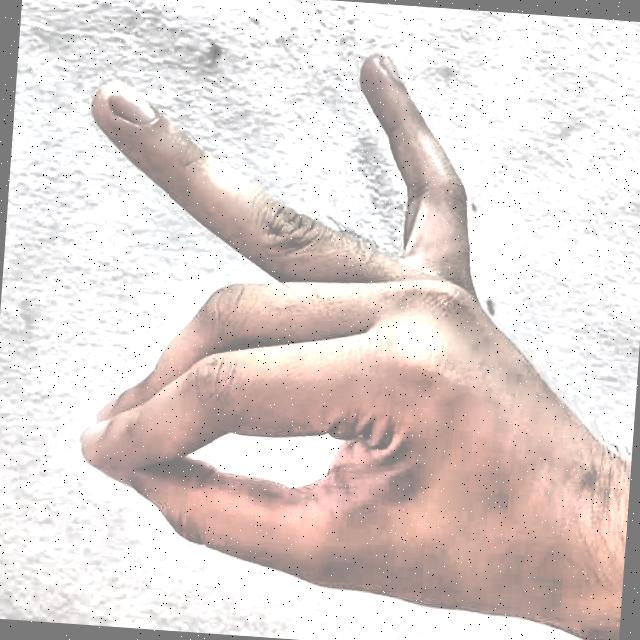Na: (38, 13, 607, 640)
